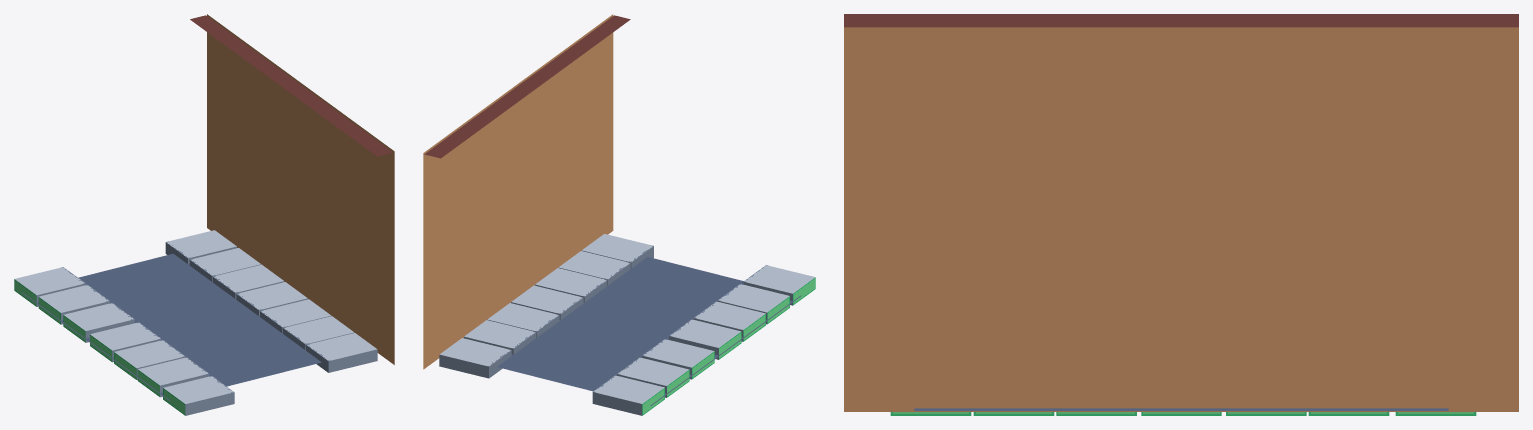
File: RightOutside.gltf
3 views of the same model, side by side, from view 1: azimuth 30°, elevation 25°; view 2: azimuth 150°, elevation 25°; view 3: azimuth 270°, elevation 25° (orthographic). The views are drawn at different scales.
Visible parts, largest first — view 1: plane (×2), mesh; view 2: plane (×2), mesh; view 3: plane (×2), mesh.
Part boxes in pixels (x1=…): plane (×2): x1=21, y1=14, x2=394, y2=400; mesh: x1=14, y1=230, x2=377, y2=415; plane (×2): x1=423, y1=14, x2=801, y2=405; mesh: x1=439, y1=234, x2=815, y2=415; plane (×2): x1=844, y1=14, x2=1518, y2=411; mesh: x1=890, y1=412, x2=1476, y2=415.
Size of the model in its own units: 12.75 by 12.75 by 19.88.
1 material, 1 textured.
